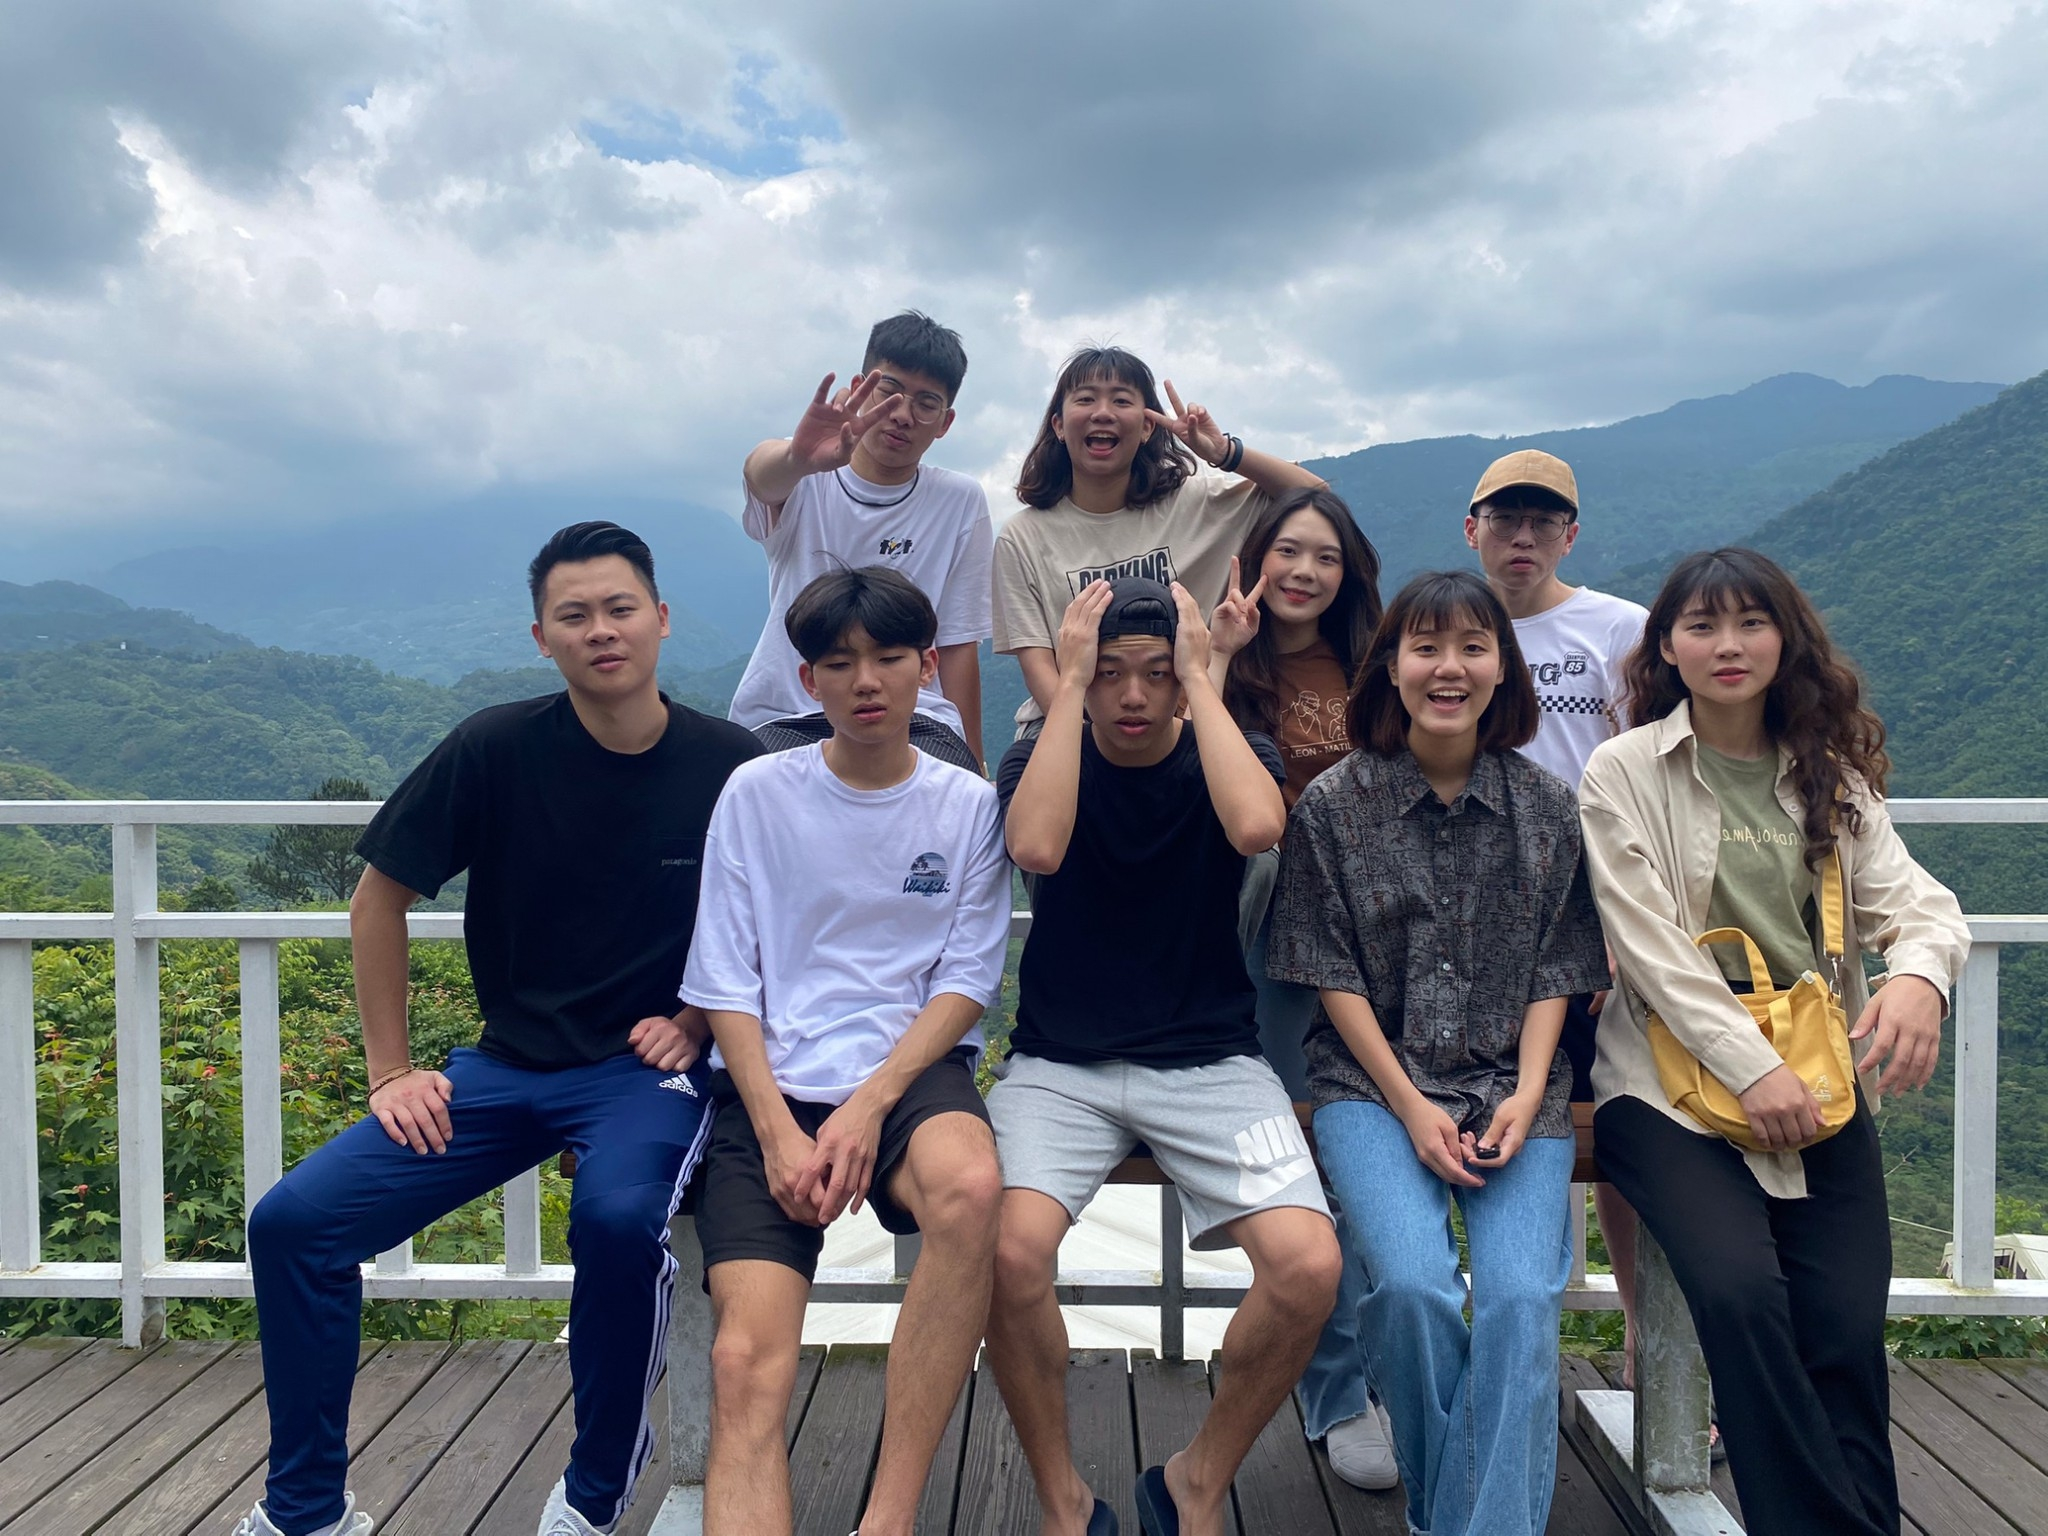people: (354, 531, 737, 1536), (1599, 560, 1925, 1536), (999, 575, 1275, 1536), (699, 569, 969, 1536), (1304, 587, 1578, 1536), (790, 313, 993, 940), (1478, 452, 1643, 1102), (1007, 340, 1243, 749), (1231, 496, 1396, 996)
